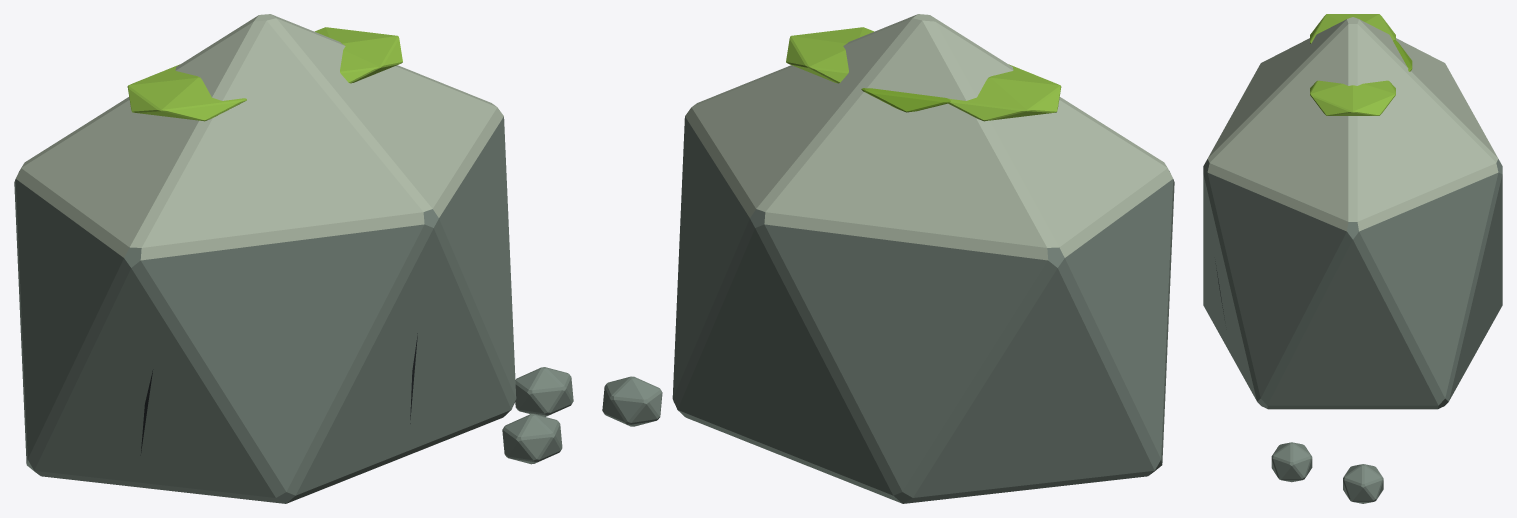
Rendered from rock-1.glb.
3 views of the same model, side by side, from view 1: azimuth 30°, elevation 25°; view 2: azimuth 150°, elevation 25°; view 3: azimuth 270°, elevation 25° (orthographic). The views are drawn at different scales.
Parts seen in each view (by area): view 1: Rock 1.001, Rock 1 moss patch 0.001, Rock 1 moss patch 2.001, Rock 1 pebble 0.001, Rock 1 pebble 1.001; view 2: Rock 1.001, Rock 1 moss patch 0.001, Rock 1 moss patch 2.001, Rock 1 pebble 1.001, Rock 1 moss patch 1.001; view 3: Rock 1.001, Rock 1 moss patch 2.001, Rock 1 pebble 0.001, Rock 1 pebble 1.001, Rock 1 moss patch 0.001.
Boxes of the visible parts, x1,y1,x2,y2 form: Rock 1.001: [14, 14, 516, 503]; Rock 1 moss patch 0.001: [127, 64, 246, 121]; Rock 1 moss patch 2.001: [315, 27, 402, 83]; Rock 1 pebble 0.001: [502, 414, 562, 464]; Rock 1 pebble 1.001: [515, 367, 573, 416]; Rock 1.001: [672, 14, 1174, 503]; Rock 1 moss patch 0.001: [948, 64, 1061, 121]; Rock 1 moss patch 2.001: [786, 27, 873, 83]; Rock 1 pebble 1.001: [602, 376, 662, 426]; Rock 1 moss patch 1.001: [861, 88, 950, 112]; Rock 1.001: [1203, 17, 1502, 409]; Rock 1 moss patch 2.001: [1310, 80, 1395, 115]; Rock 1 pebble 0.001: [1271, 442, 1312, 482]; Rock 1 pebble 1.001: [1343, 464, 1383, 503]; Rock 1 moss patch 0.001: [1310, 14, 1395, 43].
Size of the model in its own units: 2.46 by 2.02 by 1.47.
